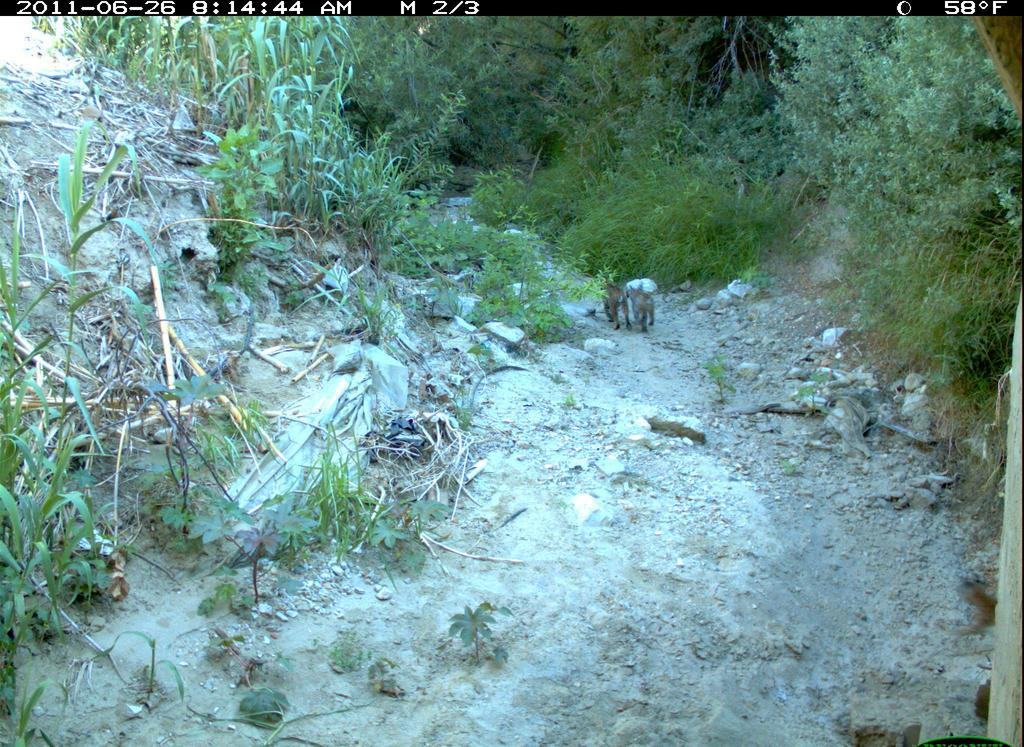bobcat: (626, 277, 665, 341), (600, 274, 629, 331)
